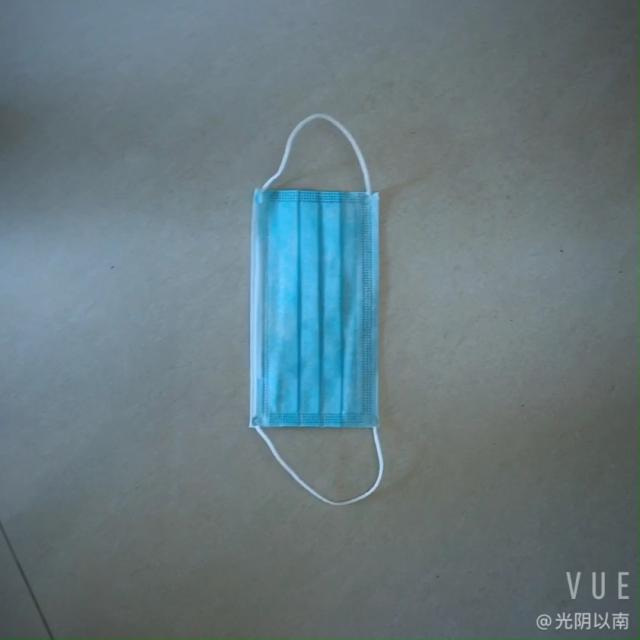face mask: (234, 172, 392, 443)
